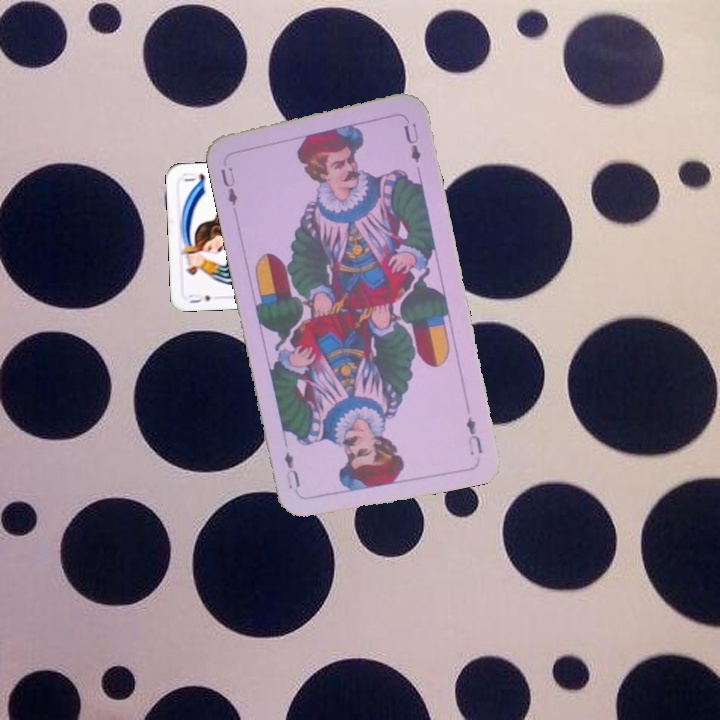EU: (216, 163, 240, 209), (462, 413, 486, 458)
SU: (185, 291, 213, 306)
